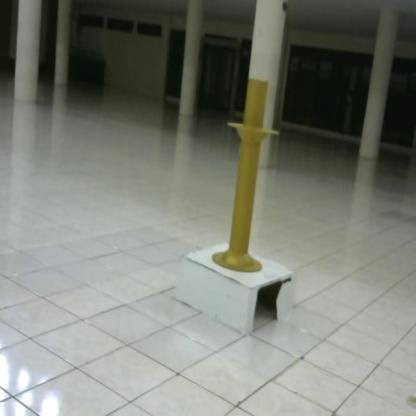pole: (207, 74, 283, 275)
